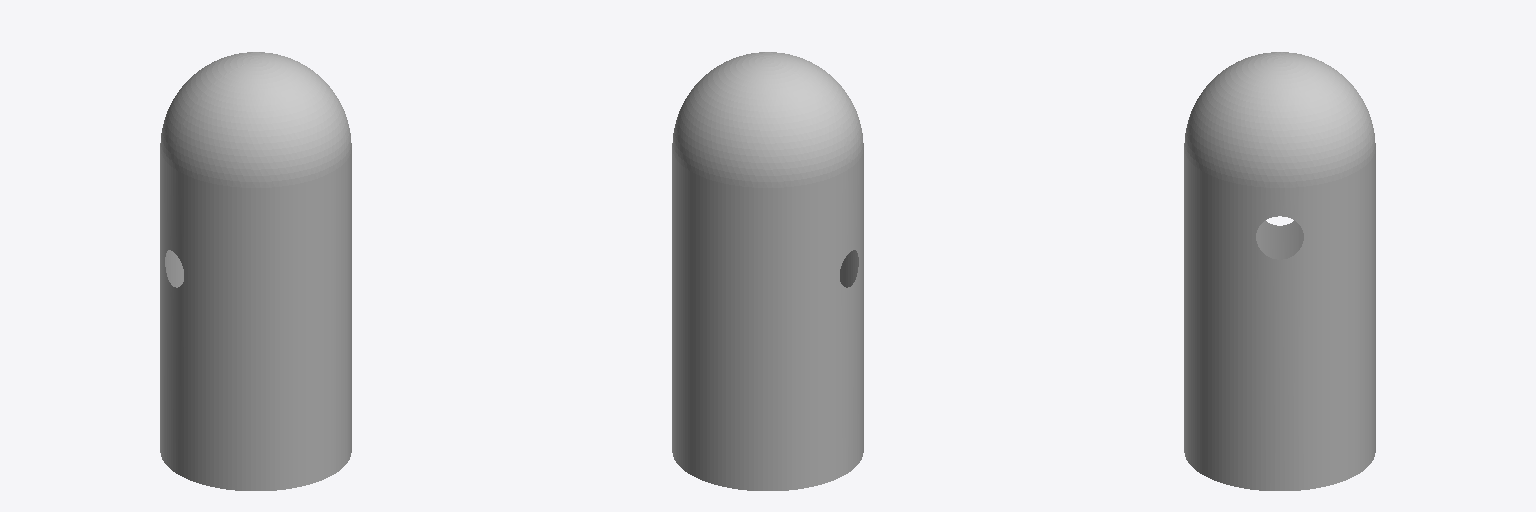
Rendered from dryer_separator.obj.
3 renders of one model, left to right at view 1: azimuth 30°, elevation 25°; view 2: azimuth 150°, elevation 25°; view 3: azimuth 270°, elevation 25°, orthographic.
Parts seen in each view (by area): view 1: obj1; view 2: obj1; view 3: obj1.
Boxes of the visible parts, <box> form: obj1: <box>160,52,351,490</box>; obj1: <box>672,52,863,490</box>; obj1: <box>1184,52,1375,490</box>.
Bounding box in the file's own units: 4 × 9 × 4.